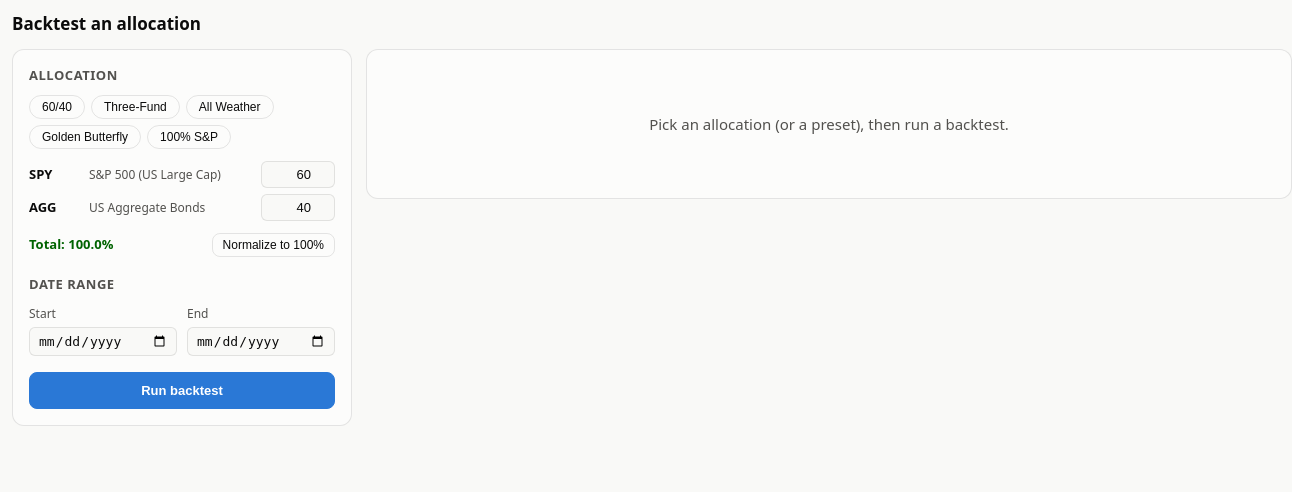
Test: Backtest › flags an allocation that does not total 100%
Expected: the text "Total: 100.0%" is shown, left=29, top=235, right=113, bottom=255
Replace the text in the number field named "SPY weight %" with "10" at point(298, 174), box left=261, top=161, right=335, bottom=188
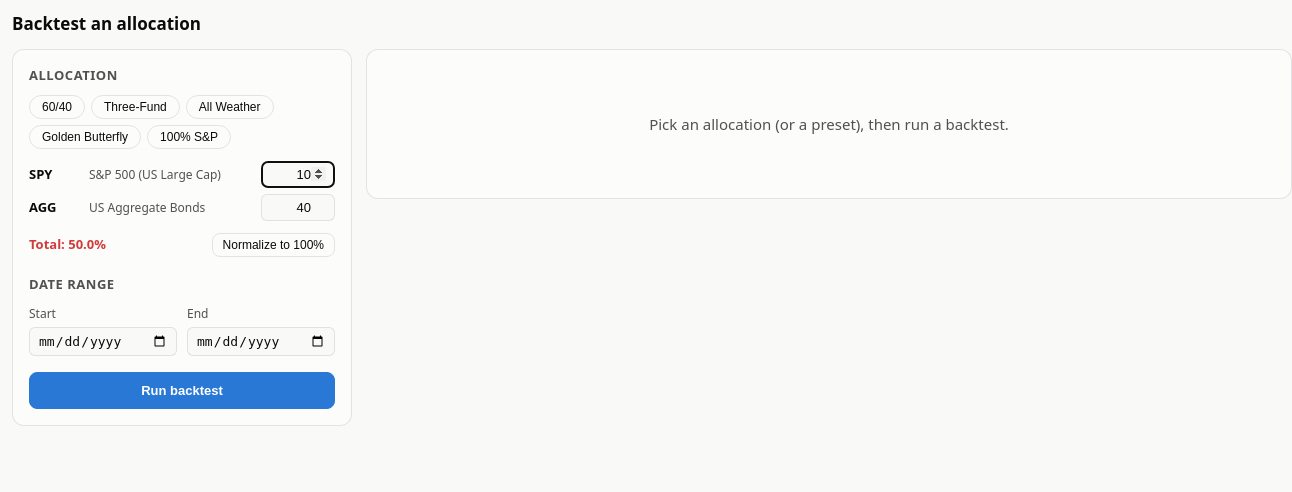
Expected: the text "Total: 50.0%" is shown, left=29, top=235, right=106, bottom=255
Click the button "Run backtest" at point(182, 390), box left=29, top=372, right=335, bottom=408
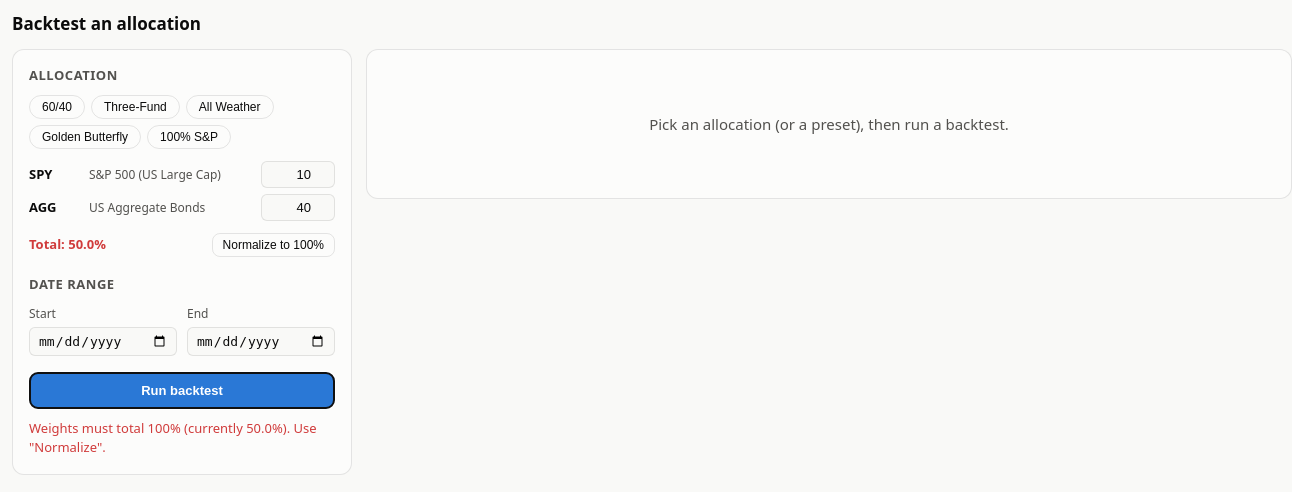
Expected: the text "Weights must total 100% (currently 50.0%). Use \"Normalize\"." is shown, left=29, top=418, right=335, bottom=458
